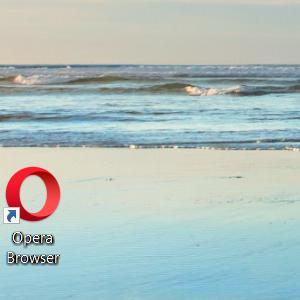opera: (3, 166, 61, 224)
